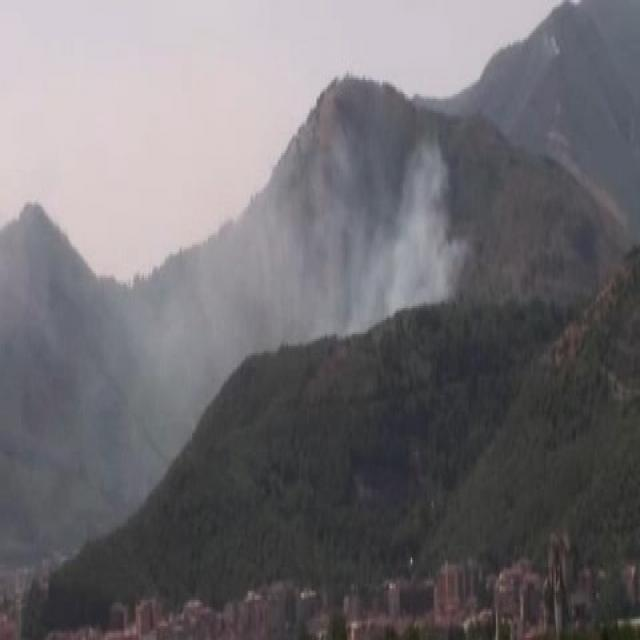smoke: (265, 136, 460, 318), (46, 303, 200, 427)
